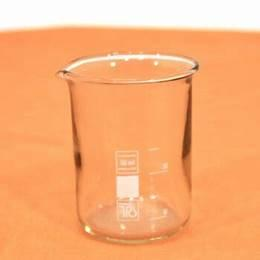Beaker: (59, 49, 197, 243)
